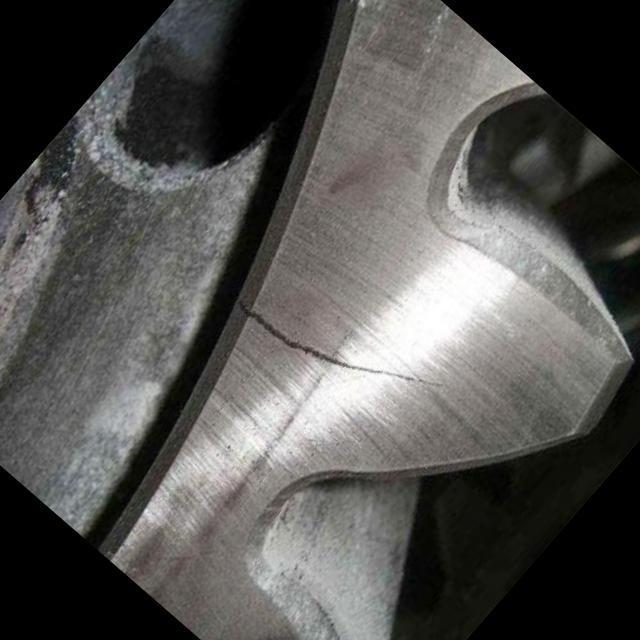defect: (232, 295, 453, 393)
